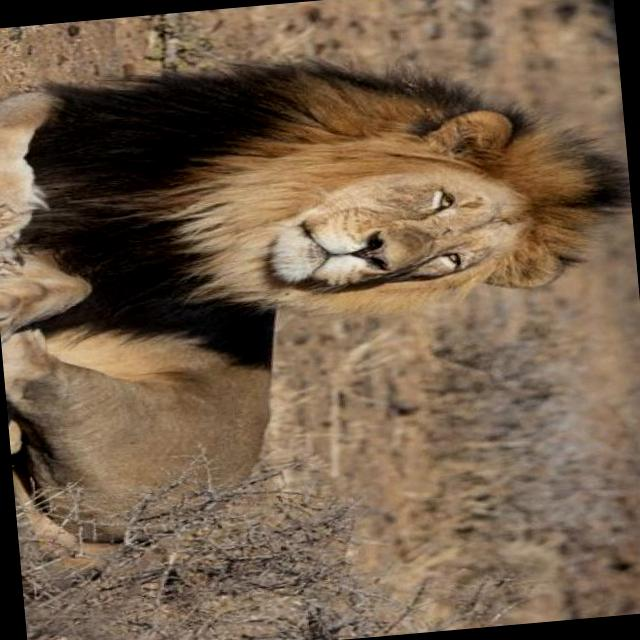lions: (0, 11, 640, 610)
